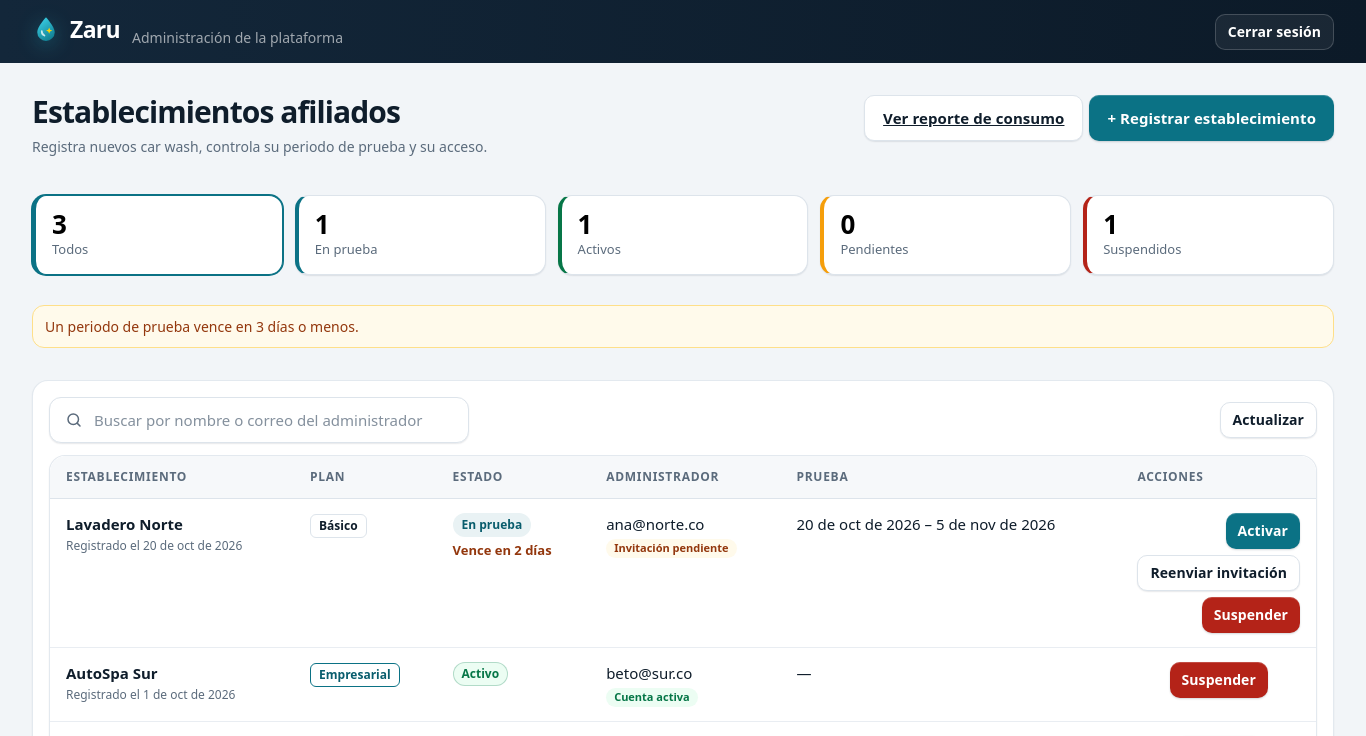
Scenario: HU-57 · panel de superadministración › muestra el administrador y si su invitación está pendiente; permite reenviarla
This screenshot has width=1366, height=736.
Expected: the text "Invitación pendiente" is shown, [606,539,737,558]
Expected: the text "Cuenta activa" is shown, [606,688,698,707]
Click the button "Reenviar invitación".
click(1219, 573)  # box [1137,555,1300,591]
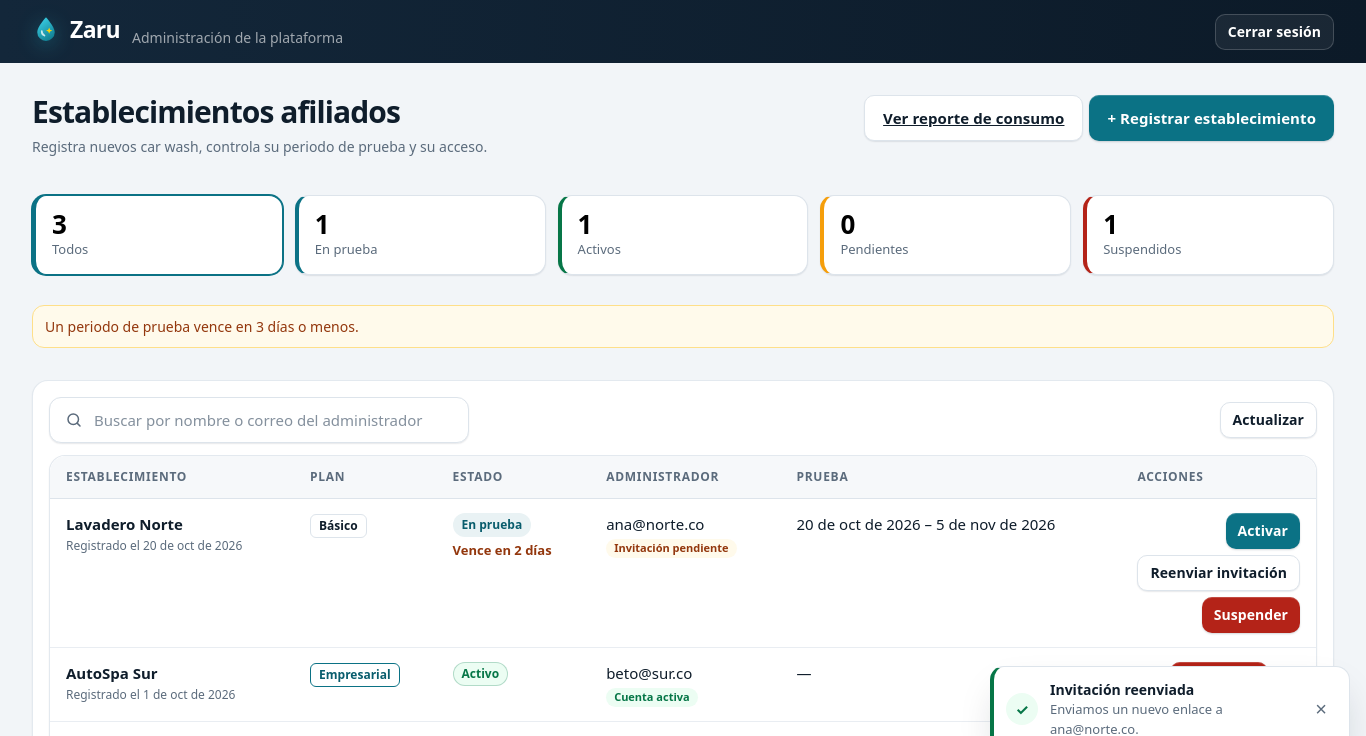
Result: the text "Invitación reenviada" is shown at [1050,680,1194,699]
